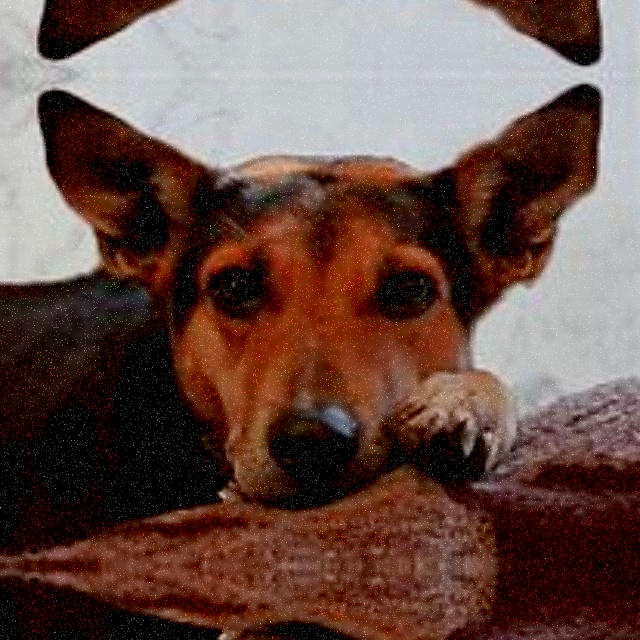dog: (0, 74, 612, 538), (0, 0, 612, 74), (0, 592, 612, 640)
